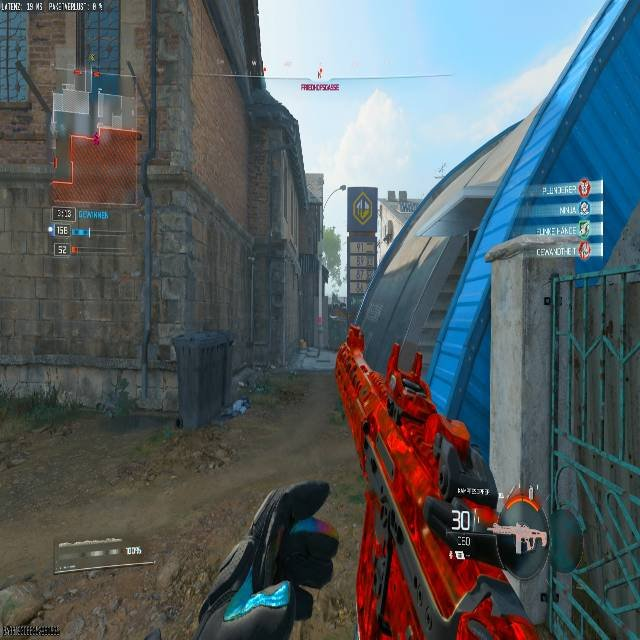head: (487, 499, 550, 574)
player: (232, 396, 250, 415)
